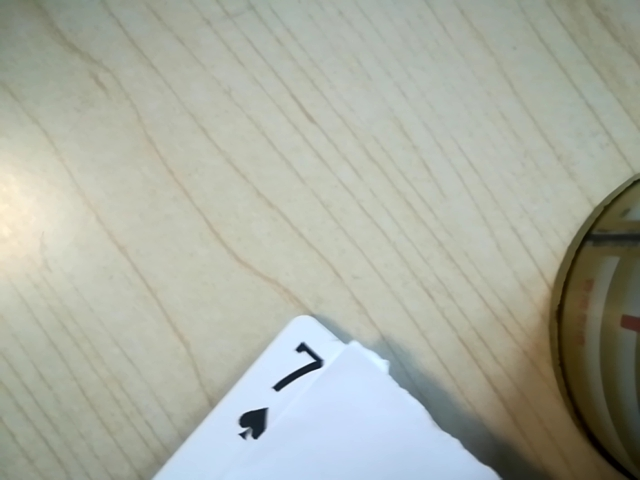ht 7: (221, 342, 337, 450)
